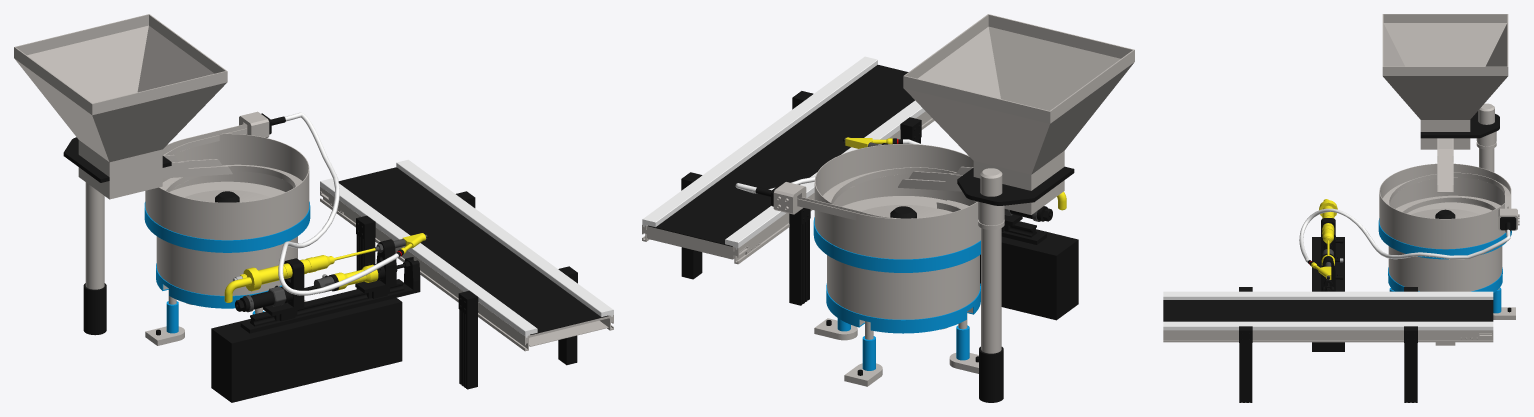
The model's file is Pin_Insertion_Station.glb.
3 renders of one model, left to right at view 1: azimuth 30°, elevation 25°; view 2: azimuth 150°, elevation 25°; view 3: azimuth 270°, elevation 25°, orthographic. The views are drawn at different scales.
Parts seen in each view (by area): view 1: color-25[25], color, color-25[20], color-26[2], color-25[5], color-26[3], color-26[4], color-26[5], color-25, color-25[29], color-21, color-15 (+9 smaller); view 2: color-25[25], color-25[20], color-26[2], color-25[5], color, color-26[3], color-25[29], color-25, color-25[6], color-25[21], color-27, color-26[4] (+14 smaller); view 3: color-25[25], color-25[20], color-26[2], color-25[5], color-26[5], color-26[3], color-26[4], color, color-25[21], color-21, color-25, color-27[2] (+7 smaller).
Part boxes in pixels (left/top/right/bottom): color-25[25]: left=14, top=14, right=232, bottom=199; color: left=211, top=239, right=420, bottom=402; color-25[20]: left=145, top=133, right=309, bottom=240; color-26[2]: left=338, top=167, right=608, bottom=334; color-25[5]: left=156, top=236, right=297, bottom=295; color-26[3]: left=396, top=159, right=613, bottom=316; color-26[4]: left=320, top=178, right=537, bottom=337; color-26[5]: left=336, top=201, right=613, bottom=351; color-25: left=144, top=201, right=310, bottom=252; color-25[29]: left=85, top=182, right=104, bottom=289; color-21: left=278, top=112, right=398, bottom=295; color-15: left=224, top=233, right=425, bottom=302; color-25[25]: left=898, top=14, right=1134, bottom=214; color-25[20]: left=814, top=144, right=980, bottom=259; color-26[2]: left=648, top=65, right=914, bottom=246; color-25[5]: left=827, top=255, right=979, bottom=325; color: left=881, top=143, right=1078, bottom=320; color-26[3]: left=642, top=56, right=877, bottom=227; color-25[29]: left=981, top=228, right=1001, bottom=353; color-25: left=813, top=217, right=980, bottom=272; color-25[6]: left=826, top=283, right=980, bottom=333; color-25[21]: left=797, top=167, right=968, bottom=220; color-27: left=789, top=208, right=810, bottom=305; color-26[4]: left=725, top=100, right=925, bottom=249; color-25[25]: left=1382, top=14, right=1508, bottom=192; color-25[20]: left=1379, top=163, right=1511, bottom=249; color-26[2]: left=1163, top=300, right=1493, bottom=321; color-25[5]: left=1388, top=246, right=1502, bottom=291; color-26[5]: left=1163, top=330, right=1468, bottom=342; color-26[3]: left=1163, top=321, right=1493, bottom=330; color-26[4]: left=1163, top=291, right=1493, bottom=299; color: left=1312, top=218, right=1344, bottom=351; color-25[21]: left=1382, top=172, right=1511, bottom=213; color-21: left=1299, top=208, right=1510, bottom=262; color-25: left=1378, top=218, right=1511, bottom=259; color-27[2]: left=1239, top=326, right=1252, bottom=402.
Size of the model in its own units: 1.12 by 0.78 by 1.08.
